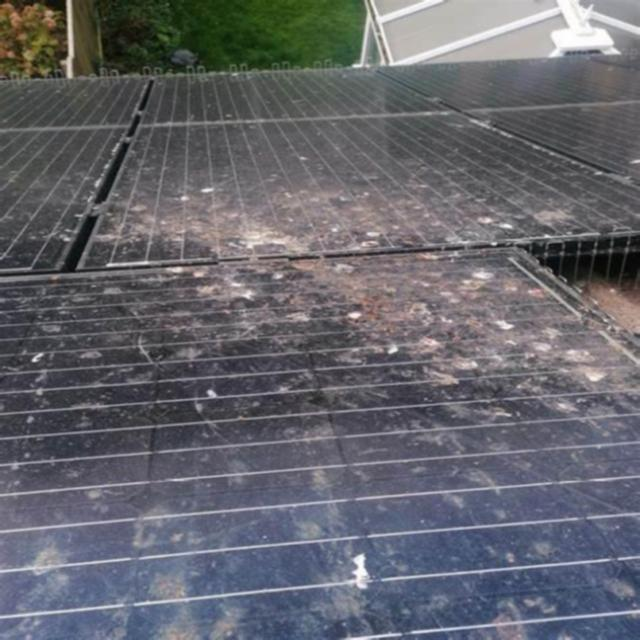soiled: (1, 255, 622, 635), (8, 113, 631, 249)
